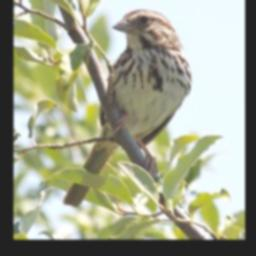Sparrow: (62, 8, 191, 207)
